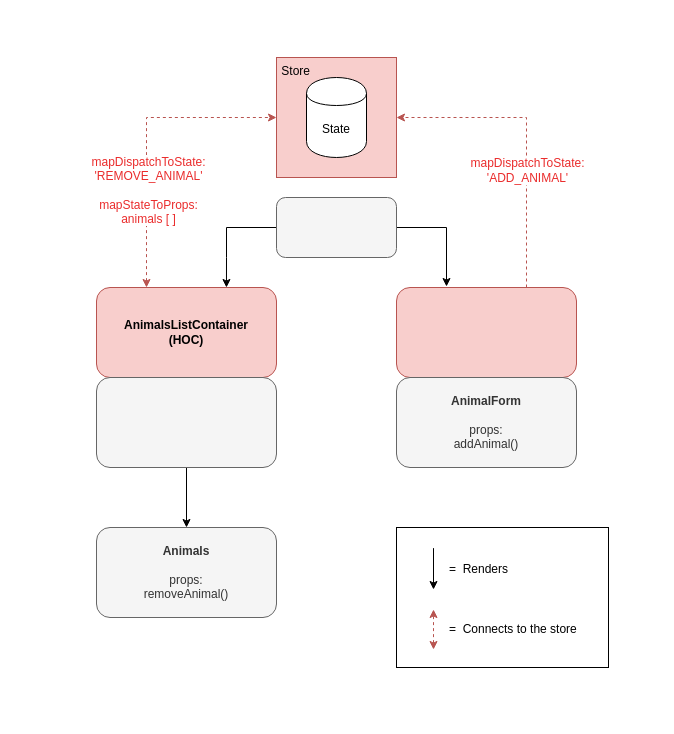
Some shapes in this 674 by 734 pixel diagram are drawn without their labels. The shapes that lost their labels are listed below. From the top down, each one's centre as x and y in pixels, then its label:
At point 336,227: "App".
At point 486,332: "AnimalFormContainer (HOC)".
At point 186,422: "AnimalsList props: animals removeAnimal()".
